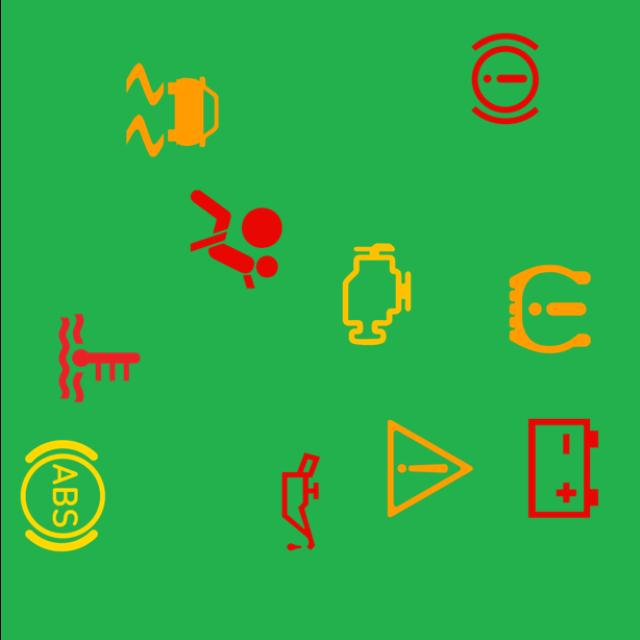Anti Lock Braking System: (1, 434, 123, 556)
Braking System Issue: (443, 18, 565, 140)
Charging System Issue: (502, 408, 624, 530)
Check Engine: (315, 234, 437, 356)
Electronic Stability Problem -ESP-: (110, 49, 232, 171)
Engine Overheating Warning Light: (38, 297, 160, 419)
Low Engine Oil Warning Light: (238, 441, 360, 563)
Low Tire Pressure Warning Light: (488, 248, 610, 370)
Master warning light: (368, 408, 490, 530)
SRS-Airbag: (174, 178, 296, 300)
